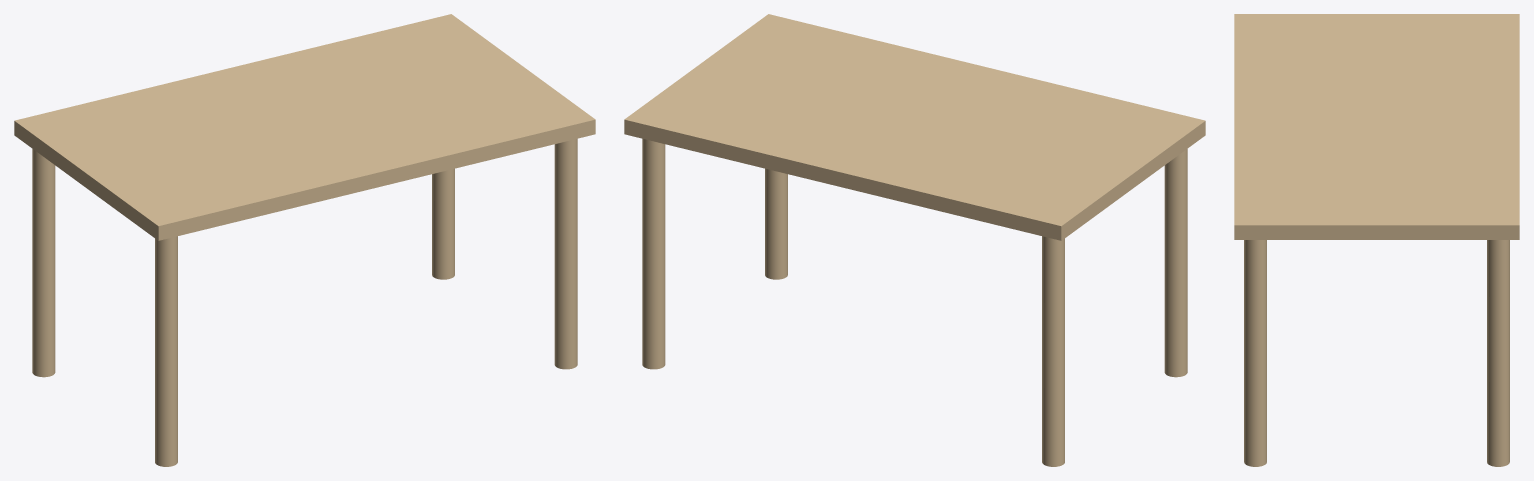
The model's file is ikea-uppspel-10482889-g2-proxy.glb.
3 views of the same model, side by side, from view 1: azimuth 30°, elevation 25°; view 2: azimuth 150°, elevation 25°; view 3: azimuth 270°, elevation 25° (orthographic).
Parts seen in each view (by area): view 1: proxy_body, leg (×4); view 2: proxy_body, leg (×4); view 3: proxy_body, leg (×2).
Boxes of the visible parts, x1,y1,x2,y2 form: proxy_body: (14,14,595,240); leg (×4): (32,138,577,466); proxy_body: (624,14,1205,240); leg (×4): (642,138,1187,466); proxy_body: (1234,14,1519,239); leg (×2): (1244,240,1509,466).
Bounding box in the file's own units: 1.4 × 0.76 × 0.8.
